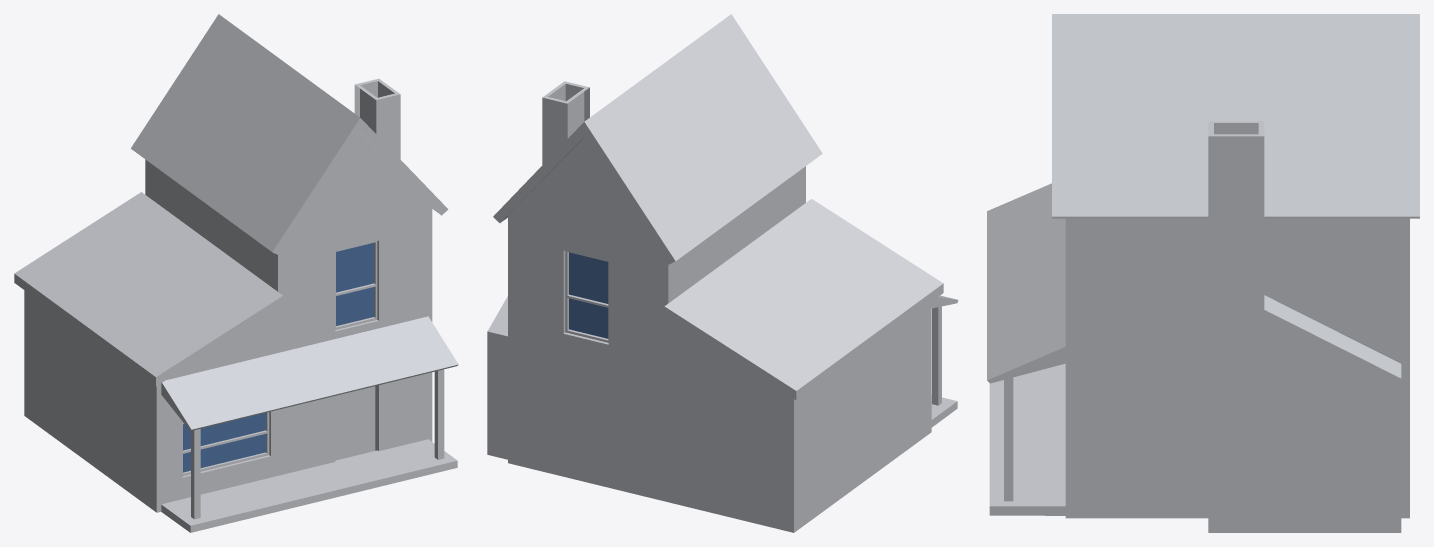
File: House_01.fbx
The picture shows the model from 3 angles, left to right: view 1: azimuth 30°, elevation 25°; view 2: azimuth 150°, elevation 25°; view 3: azimuth 270°, elevation 25°; orthographic projection. The views are drawn at different scales.
Visible parts, largest first — view 1: House1; view 2: House1; view 3: House1.
Part boxes in pixels (<box>): House1: <box>14,14,458,532</box>; House1: <box>487,14,958,532</box>; House1: <box>987,14,1419,532</box>.
Size of the model in its own units: 398 by 438 by 377.
